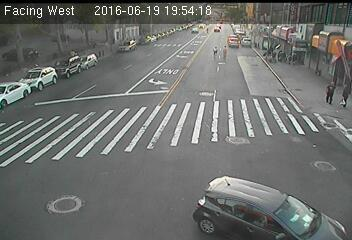neg: (122, 36, 139, 58), (100, 48, 110, 61), (149, 40, 158, 52)
pos: (320, 77, 343, 107), (336, 83, 351, 110)
